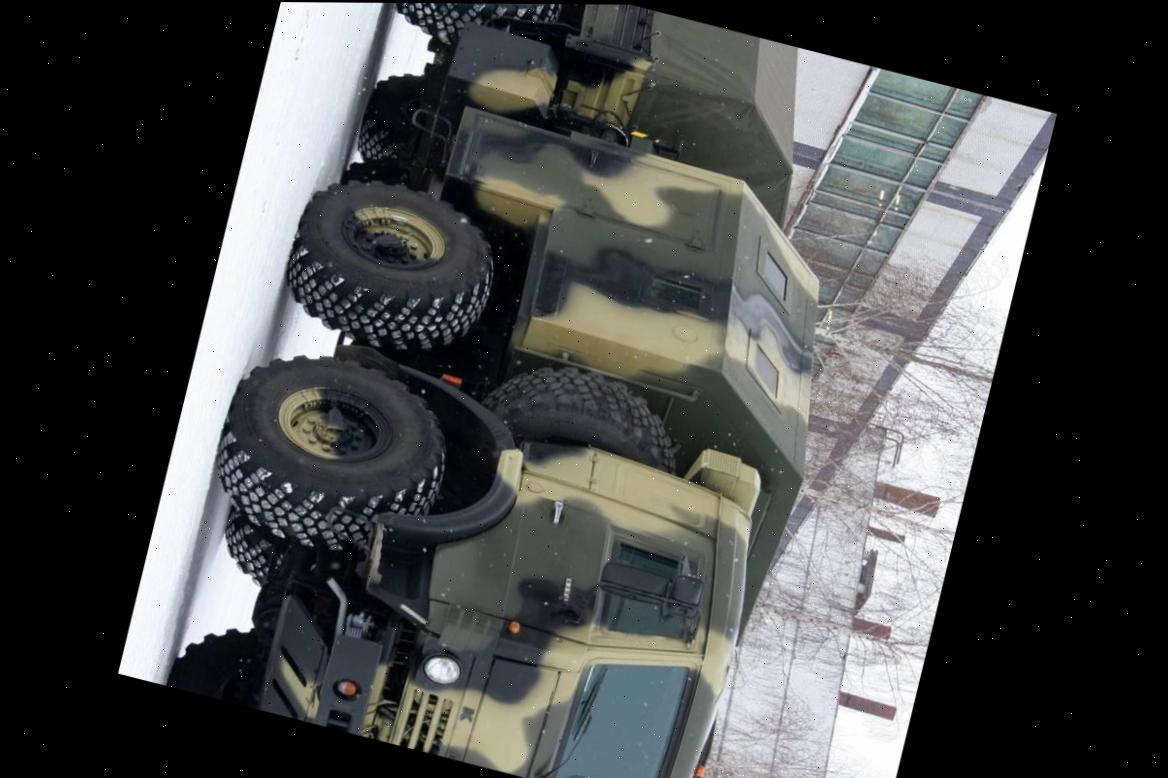truck: (129, 1, 925, 778)
